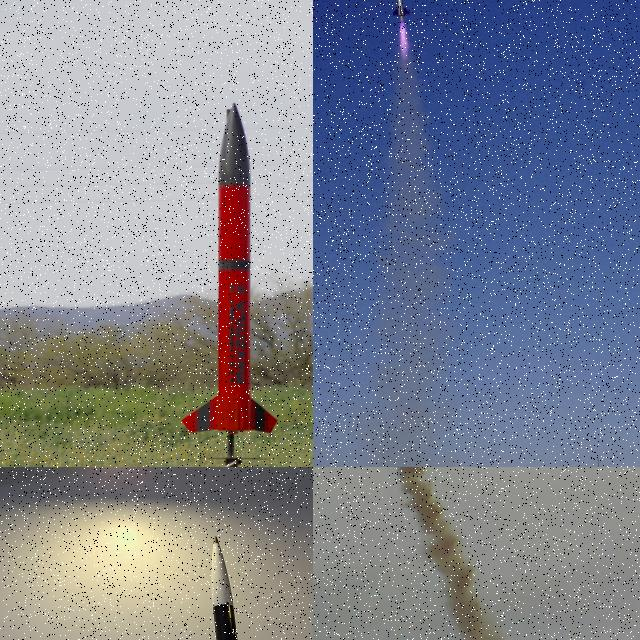Rocket: (181, 100, 286, 436), (392, 0, 411, 17)
